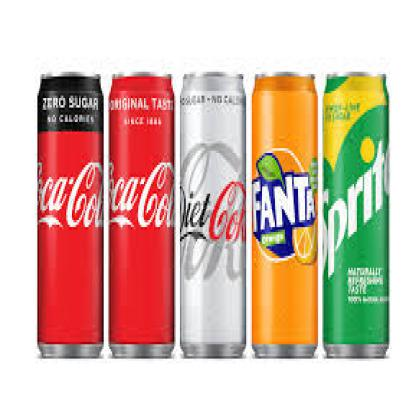METAL: (34, 72, 104, 356), (321, 65, 389, 356), (108, 69, 174, 359), (250, 69, 316, 356), (178, 72, 244, 356)
